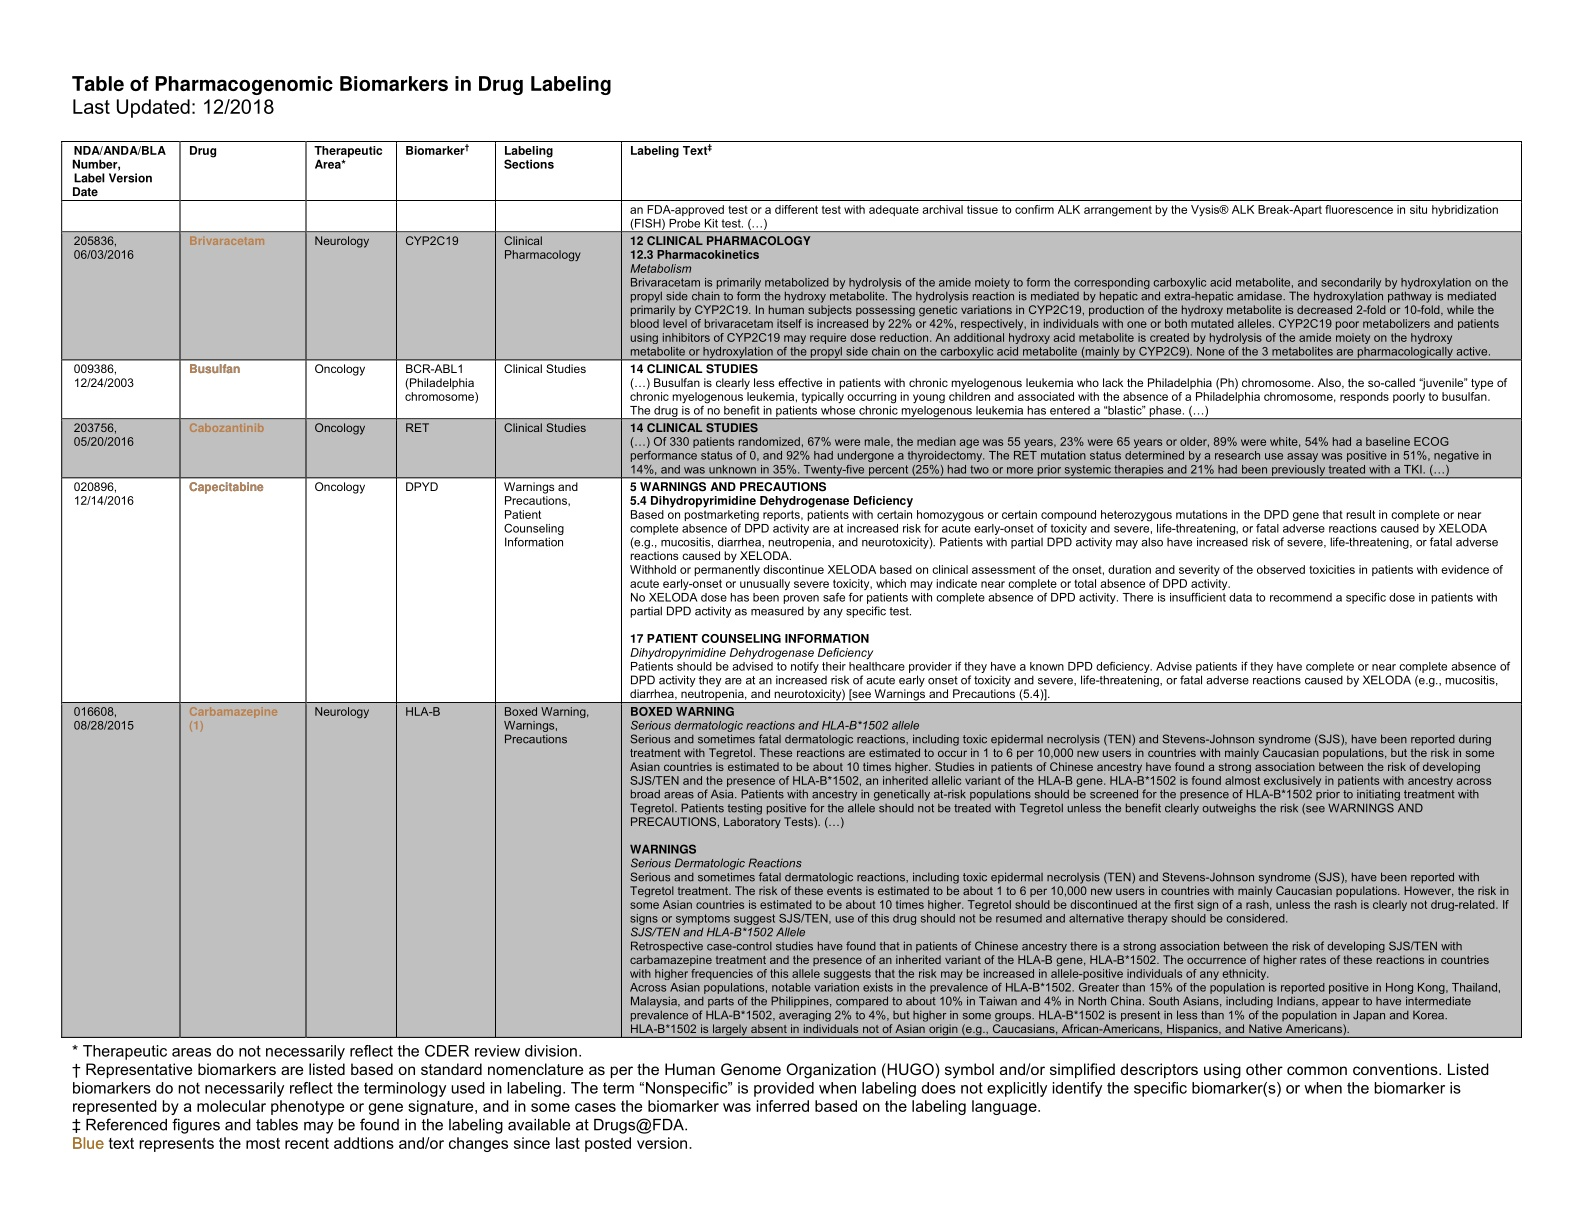full_lined: (60, 141, 1522, 1038)
